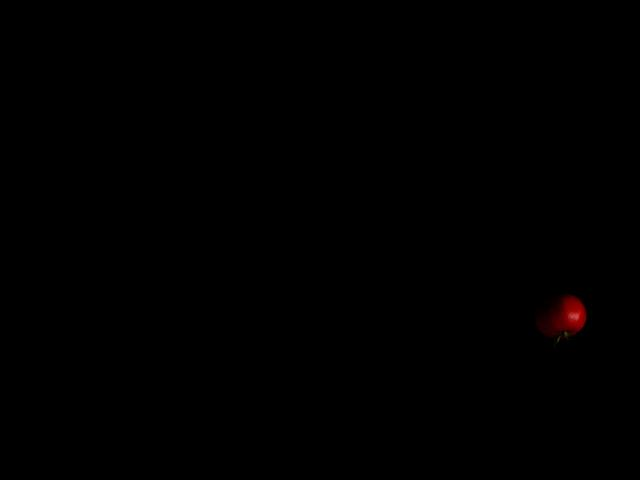tomato: (531, 290, 588, 341)
